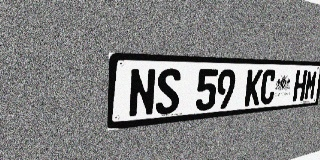5: (195, 69, 218, 111)
9: (215, 69, 236, 109)
C: (259, 70, 277, 105)
H: (292, 70, 307, 101)
K: (244, 69, 263, 106)
M: (304, 70, 318, 100)
N: (128, 68, 156, 118)
S: (155, 68, 181, 115)
